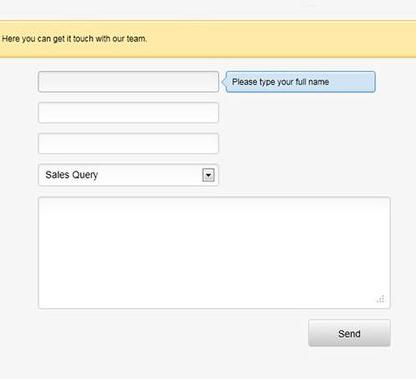button: (307, 318, 393, 350)
field: (37, 196, 391, 311), (35, 161, 221, 187), (36, 101, 221, 125), (37, 69, 221, 93), (36, 132, 220, 155)
